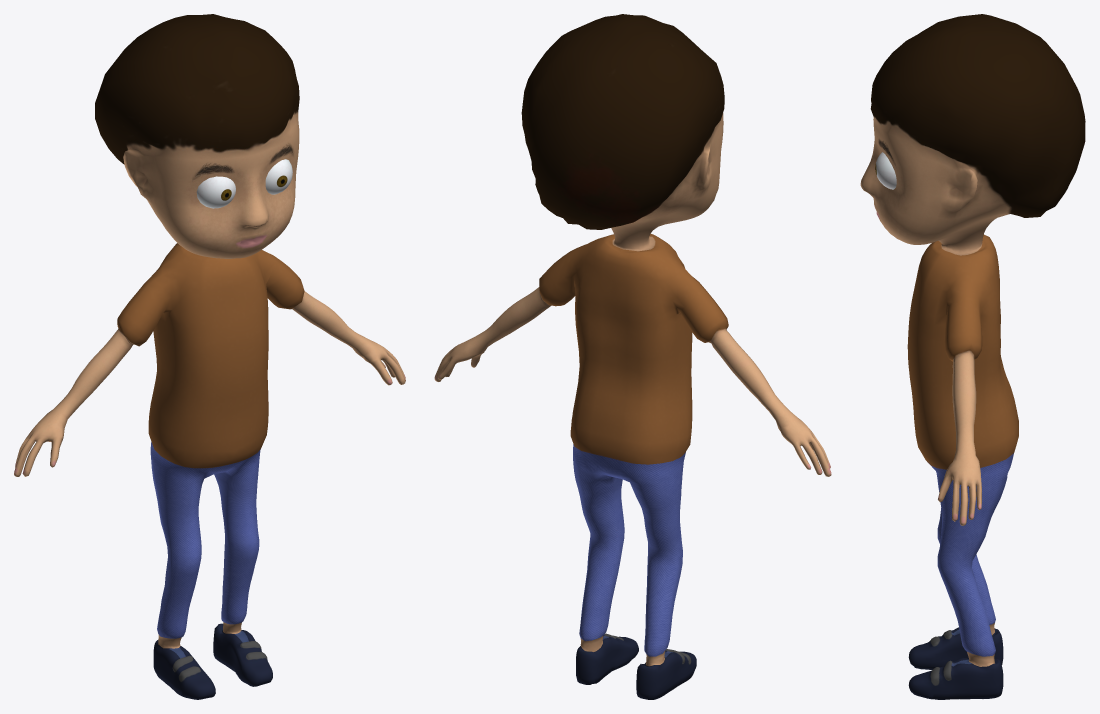
Rendered from flin.gltf.
The picture shows the model from 3 angles, left to right: view 1: azimuth 30°, elevation 25°; view 2: azimuth 150°, elevation 25°; view 3: azimuth 270°, elevation 25°; orthographic projection.
Parts seen in each view (by area): view 1: polySurface1, polySurface4; view 2: polySurface1; view 3: polySurface1, polySurface4.
Boxes of the visible parts, x1=… form: polySurface1: x1=14, y1=14, x2=405, y2=699; polySurface4: x1=196, y1=159, x2=292, y2=208; polySurface1: x1=434, y1=14, x2=831, y2=699; polySurface1: x1=860, y1=14, x2=1085, y2=699; polySurface4: x1=875, y1=152, x2=896, y2=189.
Bounding box in the file's own units: 128 × 203 × 63.11.
Materials: 2 (2 with a texture image).
